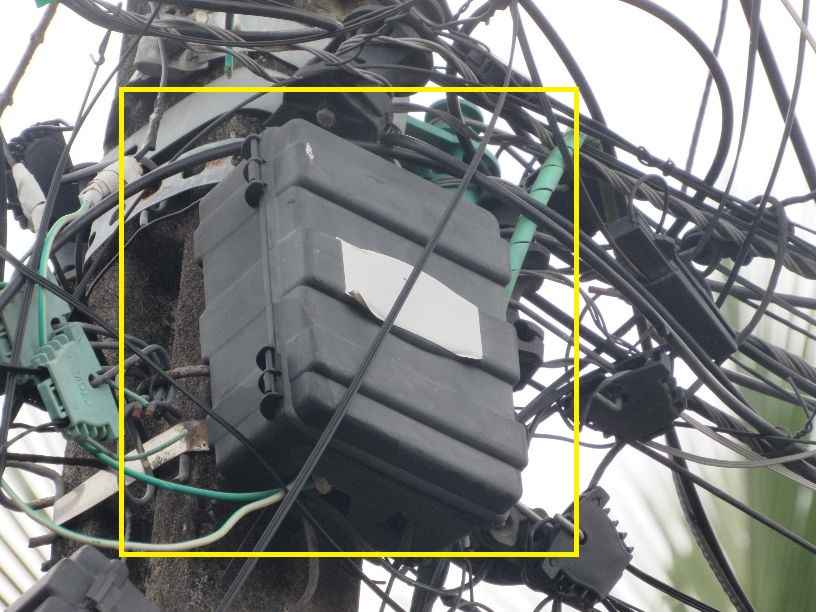caixa_derivacao: (185, 115, 512, 531)
drop: (587, 188, 746, 358), (19, 287, 122, 450), (528, 476, 621, 611), (580, 365, 695, 442)
